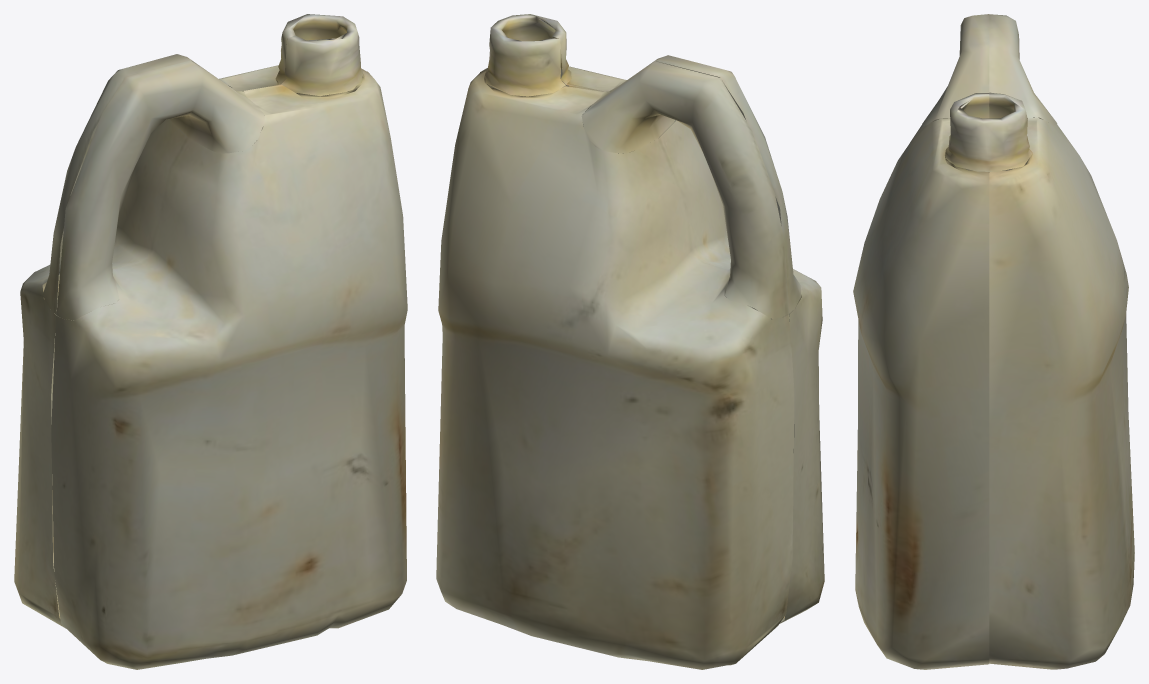
Rendered from plastic_bottle_gallon.gltf.
3 views of the same model, side by side, from view 1: azimuth 30°, elevation 25°; view 2: azimuth 150°, elevation 25°; view 3: azimuth 270°, elevation 25° (orthographic).
Visible parts, largest first — view 1: plastic_bottle_gallon; view 2: plastic_bottle_gallon; view 3: plastic_bottle_gallon.
Boxes of the visible parts, box(x1,y1,x2,y2) form: plastic_bottle_gallon: box(14, 14, 407, 669); plastic_bottle_gallon: box(436, 14, 824, 669); plastic_bottle_gallon: box(853, 14, 1134, 669).
Bounding box in the file's own units: 0.1671 × 0.2743 × 0.1269.
Materials: 1 (1 with a texture image).
